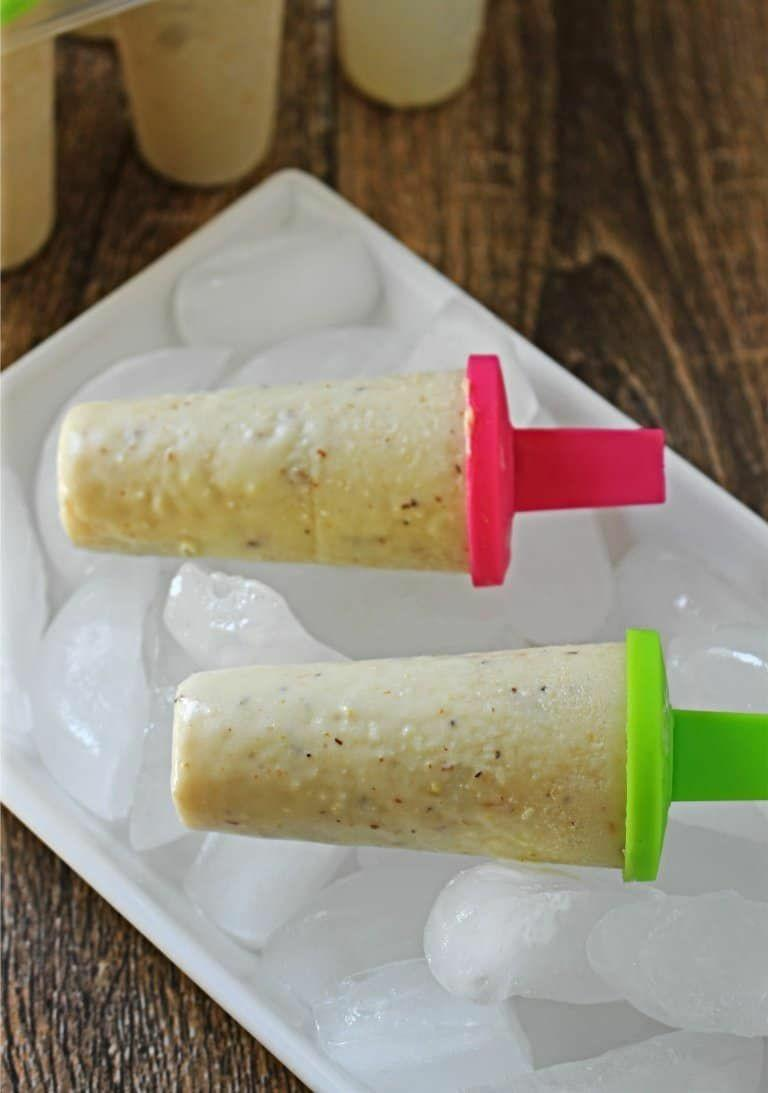Kulfi: (173, 638, 636, 876), (51, 376, 504, 576)
